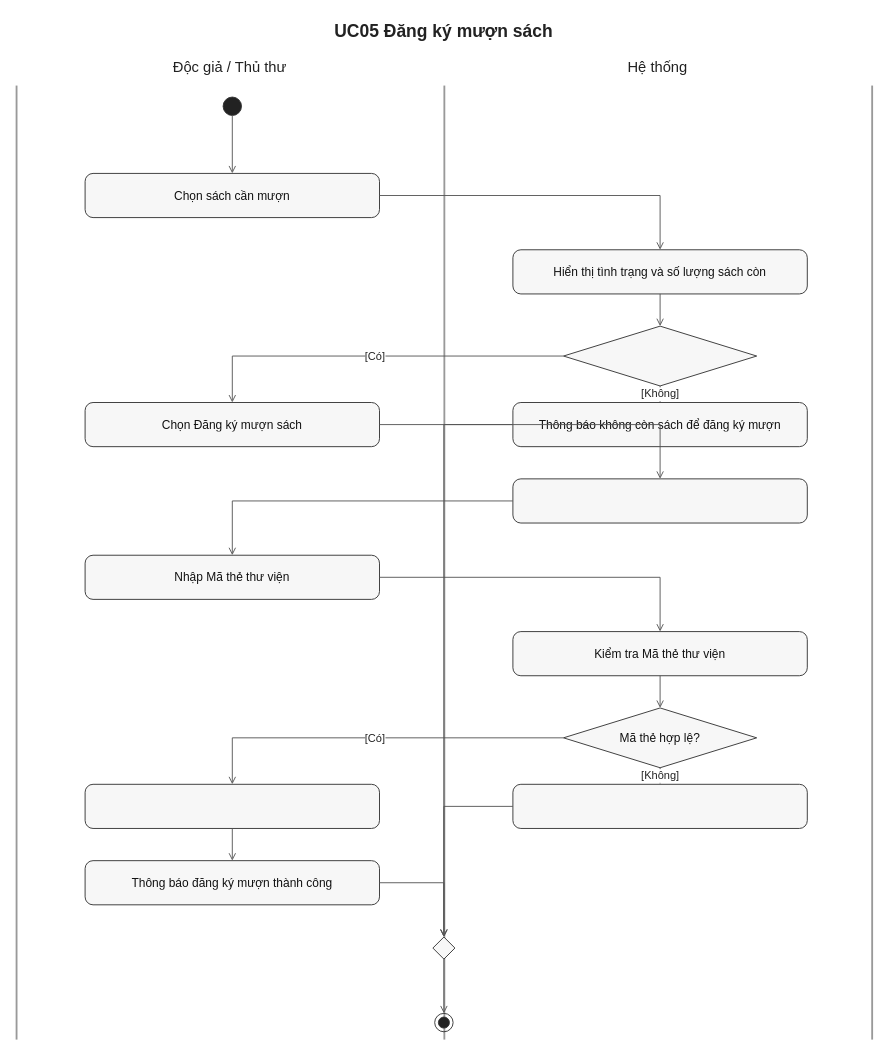
Some shapes in this 889 by 1055 pixel diagram are drawn without their labels. The box of each missing label's shape, as (x1, y1, x2, y2) in pixels:
Còn sách?: (563, 325, 757, 386)
Ghi nhận đăng ký mượn sách: (84, 783, 380, 828)
Thông báo Mã thẻ không hợp lệ: (512, 783, 807, 828)
Yêu cầu nhập Mã thẻ thư viện: (512, 478, 807, 523)
